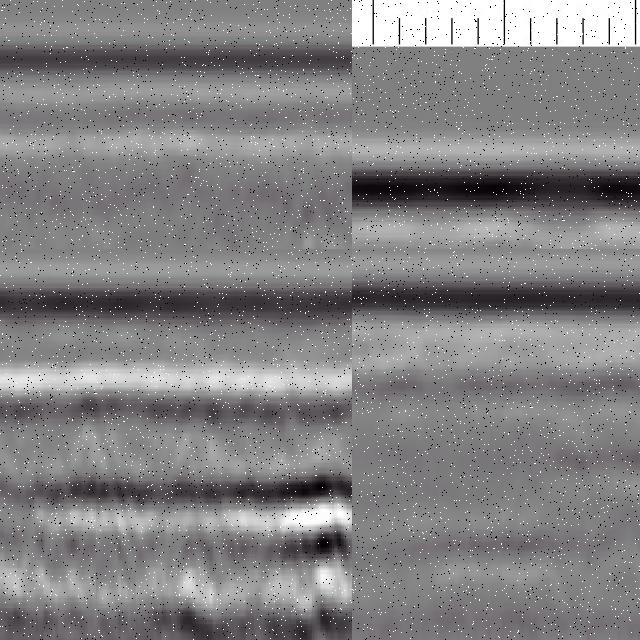loose: (180, 466, 353, 595), (1, 396, 72, 604)
